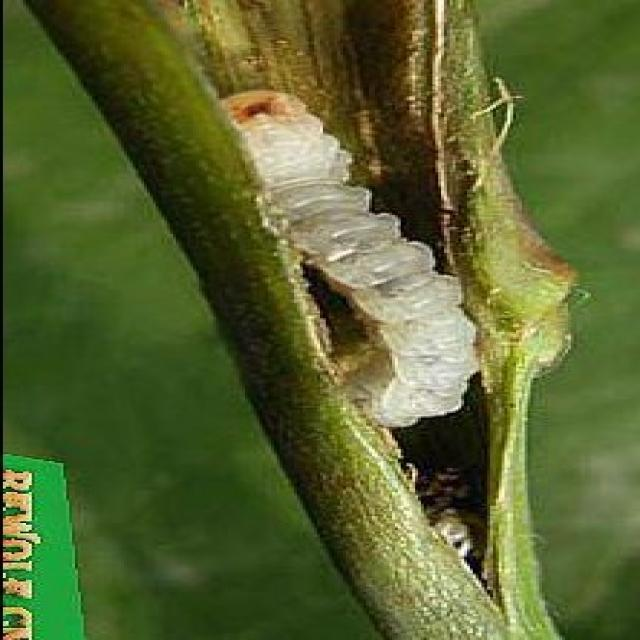peach borer: (226, 82, 491, 453)
